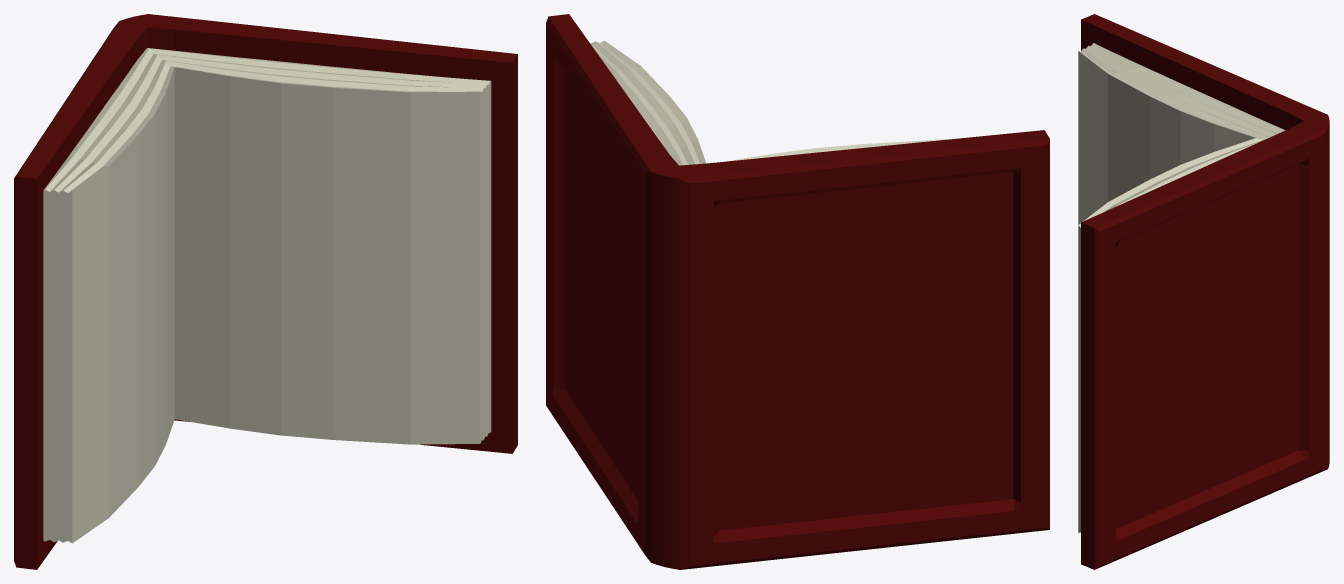
File: book.glb
The picture shows the model from 3 angles, left to right: view 1: azimuth 30°, elevation 25°; view 2: azimuth 150°, elevation 25°; view 3: azimuth 270°, elevation 25°; orthographic projection. The views are drawn at different scales.
Visible parts, largest first — view 1: pages, cover; view 2: cover, pages; view 3: cover, pages.
Boxes of the visible parts, box(x1,y1,x2,y2) form: pages: box(43, 48, 491, 543); cover: box(14, 14, 517, 569); cover: box(546, 14, 1049, 569); pages: box(590, 40, 948, 165); cover: box(1081, 14, 1329, 569); pages: box(1078, 43, 1285, 532).
Size of the model in its own units: 0.4641 by 0.3457 by 0.2302.
